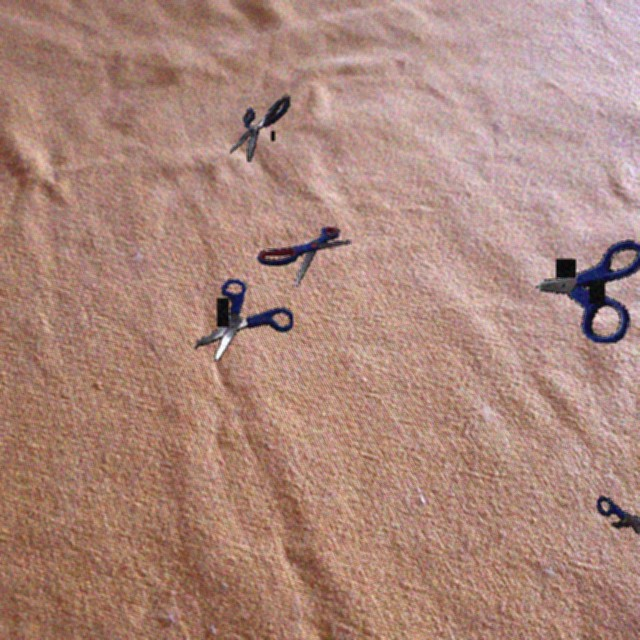scissors: (535, 240, 640, 343), (194, 278, 293, 361), (257, 227, 351, 287), (230, 94, 290, 162), (597, 496, 640, 537)
